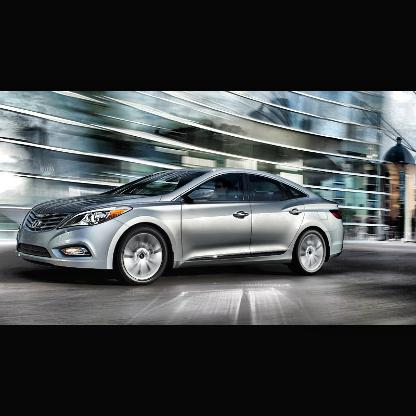Hyundai Azera Sedan 2012: (16, 168, 346, 288)
